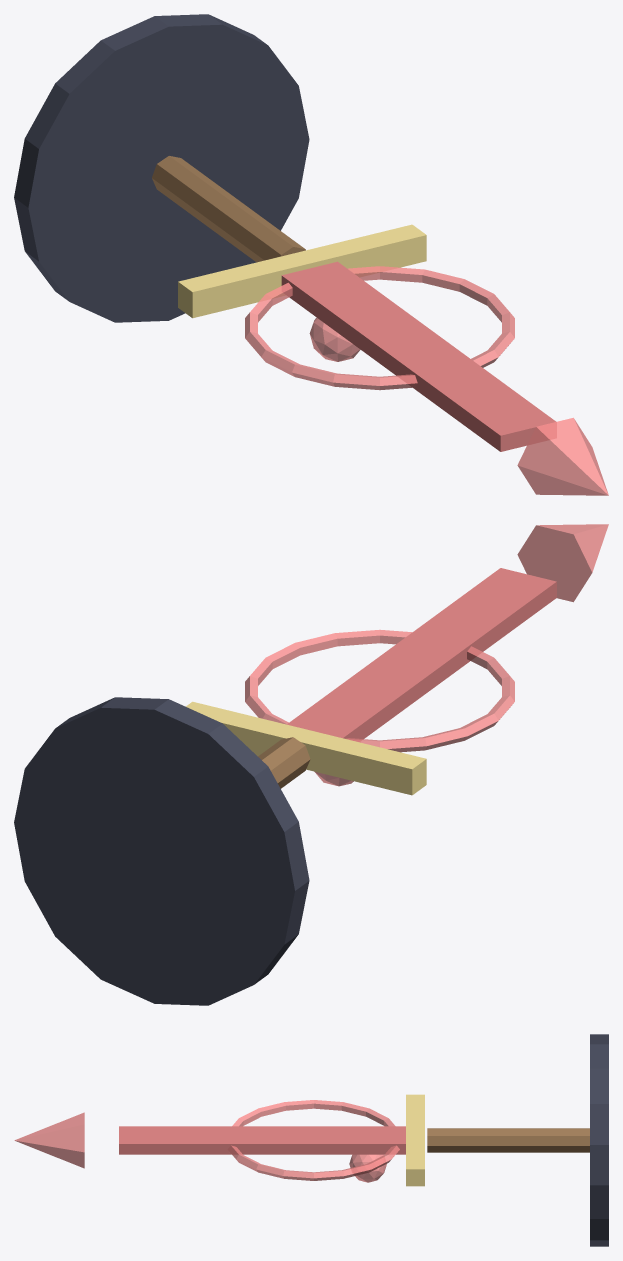
File: 03_high_tier_magic_weapon.glb
3 renders of one model, top to bottom at view 1: azimuth 30°, elevation 25°; view 2: azimuth 150°, elevation 25°; view 3: azimuth 270°, elevation 25°, orthographic. The views are drawn at different scales.
Visible parts, largest first — view 1: weapon_display_base, magic_blade_or_staff_core, relic_guard, weapon_aura_ring, weapon_grip, weapon_tip, socketed_gem; view 2: weapon_display_base, magic_blade_or_staff_core, relic_guard, weapon_aura_ring, weapon_tip, weapon_grip; view 3: magic_blade_or_staff_core, weapon_grip, weapon_display_base, weapon_aura_ring, weapon_tip, relic_guard, socketed_gem.
Part boxes in pixels (left/top/right/bottom): weapon_display_base: left=14, top=14, right=309, bottom=322; magic_blade_or_staff_core: left=281, top=261, right=556, bottom=451; relic_guard: left=178, top=224, right=426, bottom=318; weapon_aura_ring: left=245, top=266, right=514, bottom=390; weapon_grip: left=152, top=156, right=305, bottom=262; weapon_tip: left=517, top=417, right=608, bottom=495; socketed_gem: left=309, top=317, right=360, bottom=361; weapon_display_base: left=14, top=697, right=309, bottom=1005; magic_blade_or_staff_core: left=287, top=568, right=556, bottom=741; relic_guard: left=186, top=701, right=426, bottom=795; weapon_aura_ring: left=245, top=629, right=514, bottom=752; weapon_tip: left=517, top=524, right=608, bottom=602; weapon_grip: left=258, top=737, right=310, bottom=788; magic_blade_or_staff_core: left=119, top=1126, right=405, bottom=1154; weapon_grip: left=427, top=1128, right=589, bottom=1152; weapon_display_base: left=590, top=1034, right=608, bottom=1246; weapon_aura_ring: left=227, top=1100, right=399, bottom=1180; weapon_tip: left=14, top=1112, right=84, bottom=1168; relic_guard: left=406, top=1094, right=424, bottom=1186; socketed_gem: left=349, top=1154, right=386, bottom=1182.
Size of the model in its own units: 0.9 by 0.9 by 2.52.
